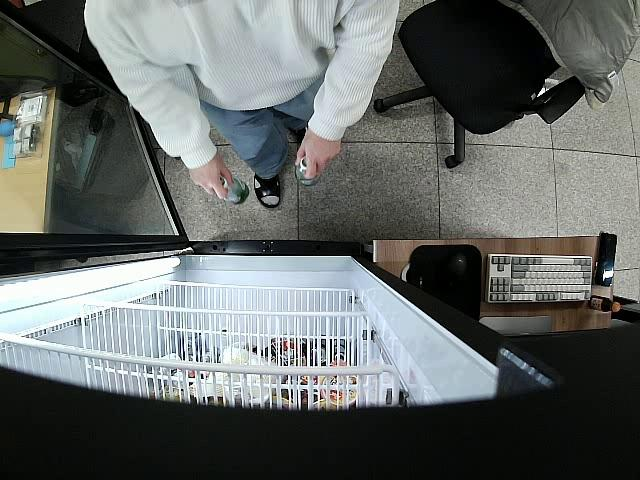00_hand: (188, 163, 235, 199), (295, 142, 339, 179)
18_trevi: (218, 176, 250, 207), (294, 158, 321, 186)
